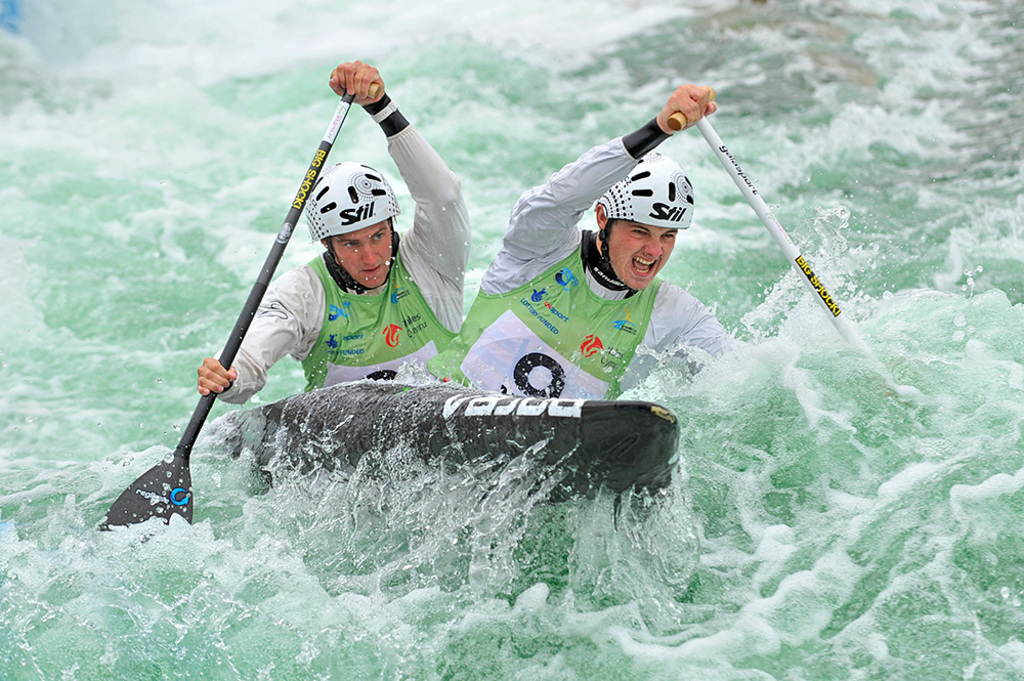Human_hand: (316, 53, 392, 113), (655, 83, 718, 135), (197, 357, 239, 395)
